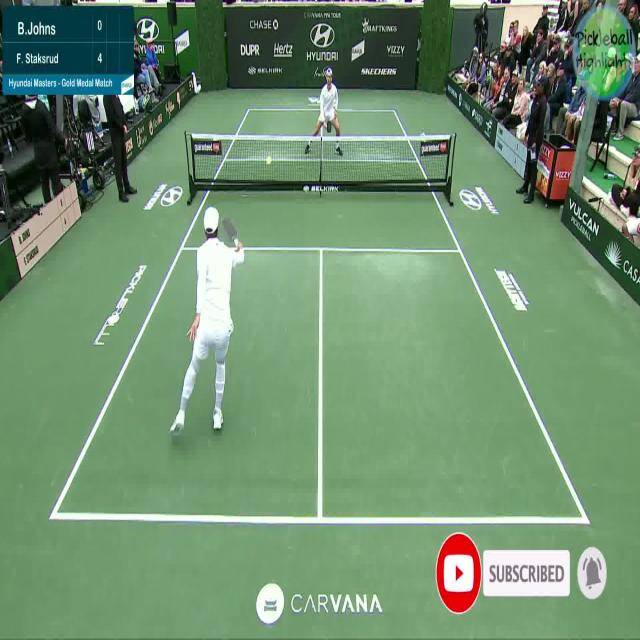ball: (264, 148, 273, 168)
